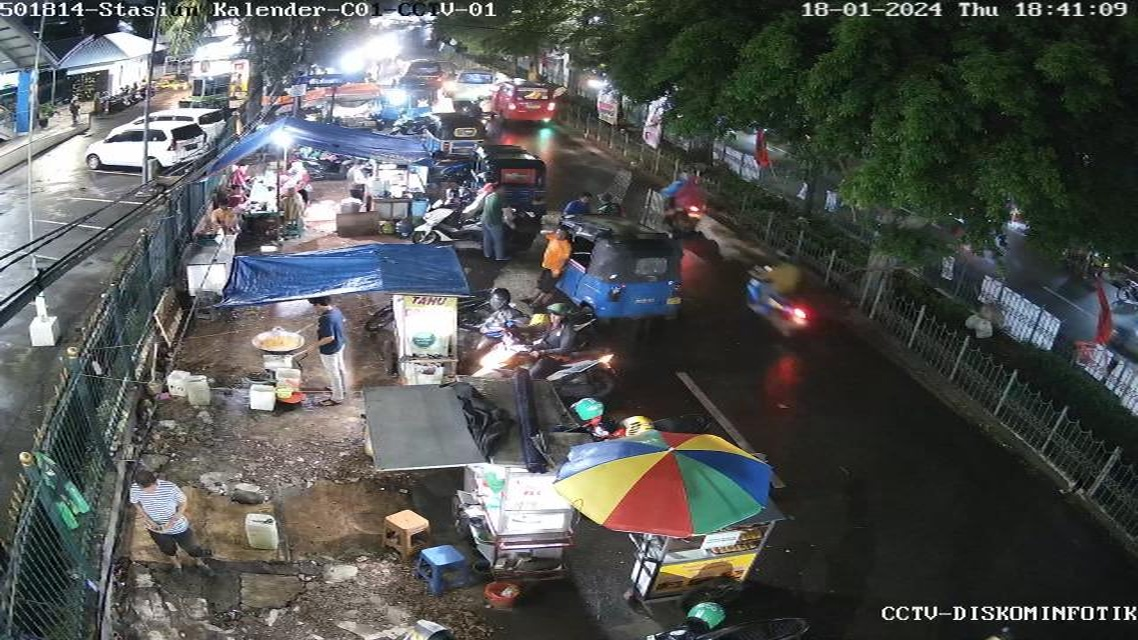Gerobak: (347, 377, 592, 578), (457, 455, 576, 580), (635, 516, 784, 609), (377, 283, 475, 389), (349, 160, 434, 235), (241, 153, 309, 236), (245, 161, 286, 227)
